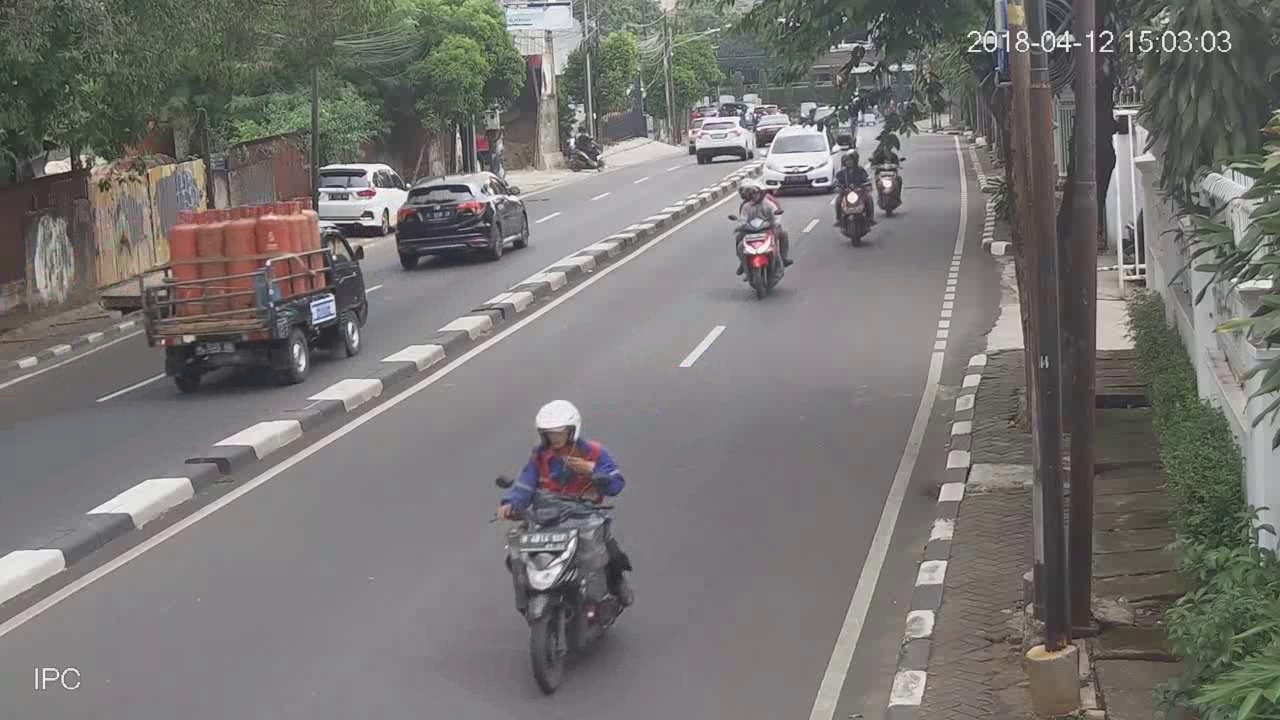bus: (138, 193, 374, 384)
car: (395, 172, 532, 266), (303, 158, 384, 224), (760, 126, 826, 195), (693, 118, 749, 161)
motorcycle: (492, 396, 641, 695), (727, 173, 797, 301), (831, 146, 877, 247), (866, 128, 912, 224)
truck: (130, 197, 374, 387)
